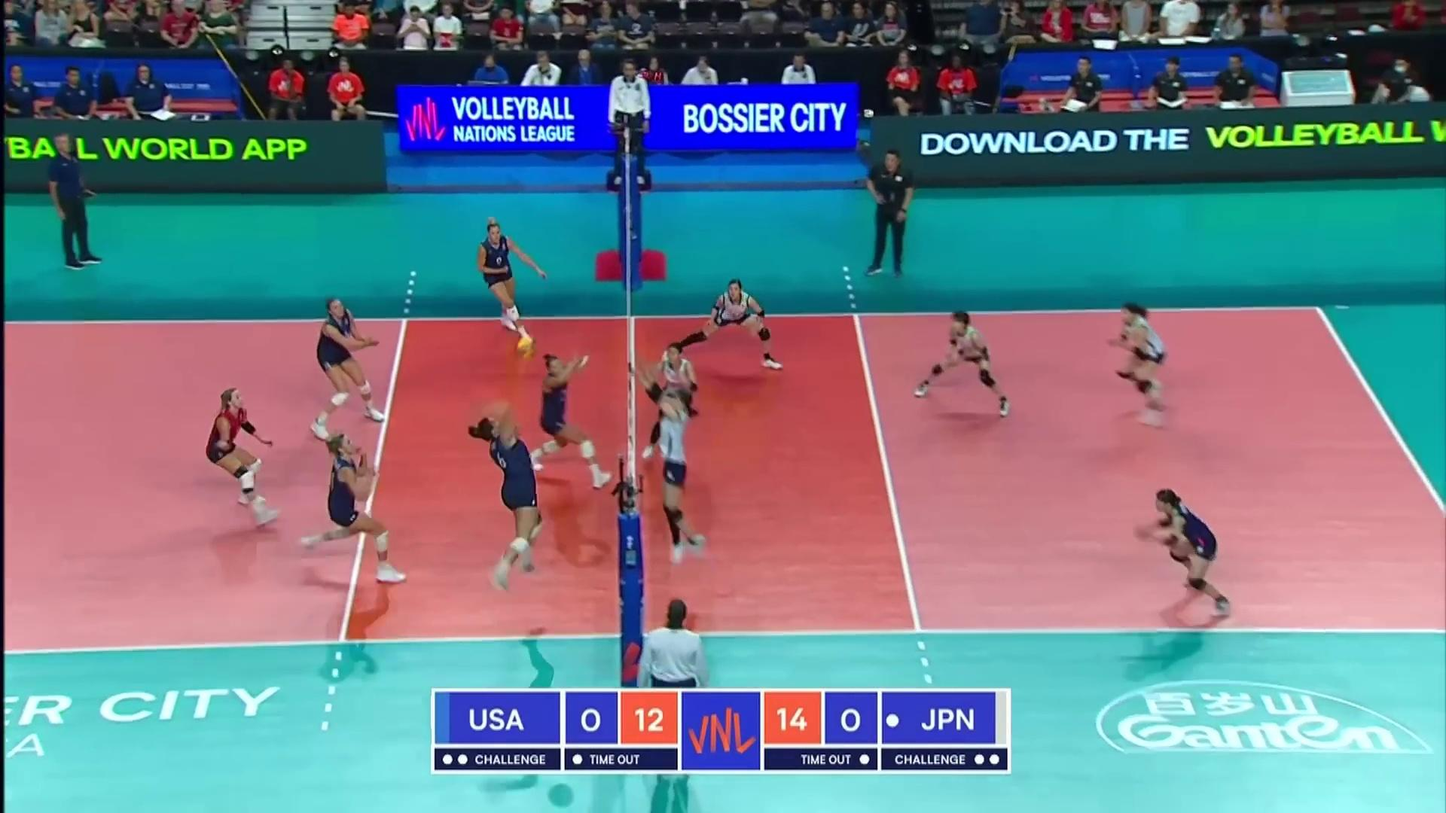player: (301, 435, 408, 586), (469, 405, 546, 586), (1140, 489, 1232, 623), (524, 354, 614, 488), (660, 278, 780, 371), (645, 375, 705, 560), (310, 297, 385, 439), (914, 309, 1016, 413), (209, 391, 279, 528), (476, 220, 548, 353), (1107, 306, 1171, 428), (643, 346, 698, 462)
refree: (641, 601, 709, 772), (608, 61, 650, 185)
